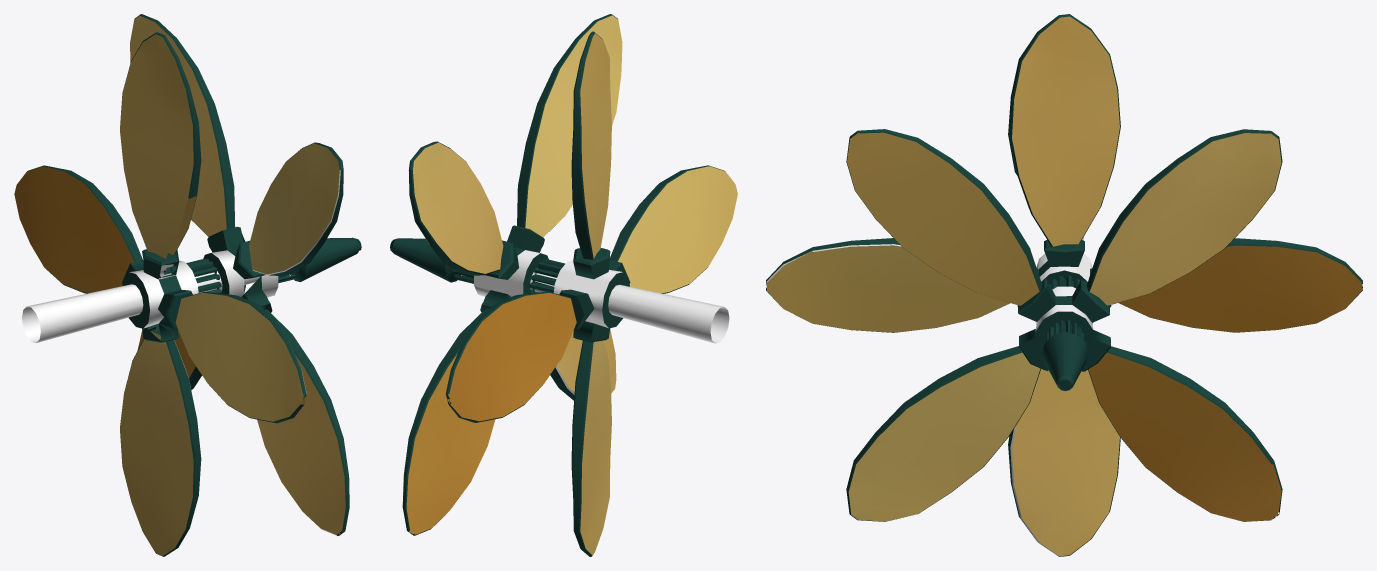
File: zeppelin_helice_abajo.obj
The picture shows the model from 3 angles, left to right: view 1: azimuth 30°, elevation 25°; view 2: azimuth 150°, elevation 25°; view 3: azimuth 270°, elevation 25°; orthographic projection. The views are drawn at different scales.
Parts seen in each view (by area): view 1: elice_abajo_Material.001; view 2: elice_abajo_Material.001; view 3: elice_abajo_Material.001.
Boxes of the visible parts, left/top/right/bottom form: elice_abajo_Material.001: left=14, top=14, right=361, bottom=556; elice_abajo_Material.001: left=390, top=14, right=737, bottom=556; elice_abajo_Material.001: left=766, top=14, right=1362, bottom=556.
Bounding box in the file's own units: 1.13 × 1.71 × 1.71.
